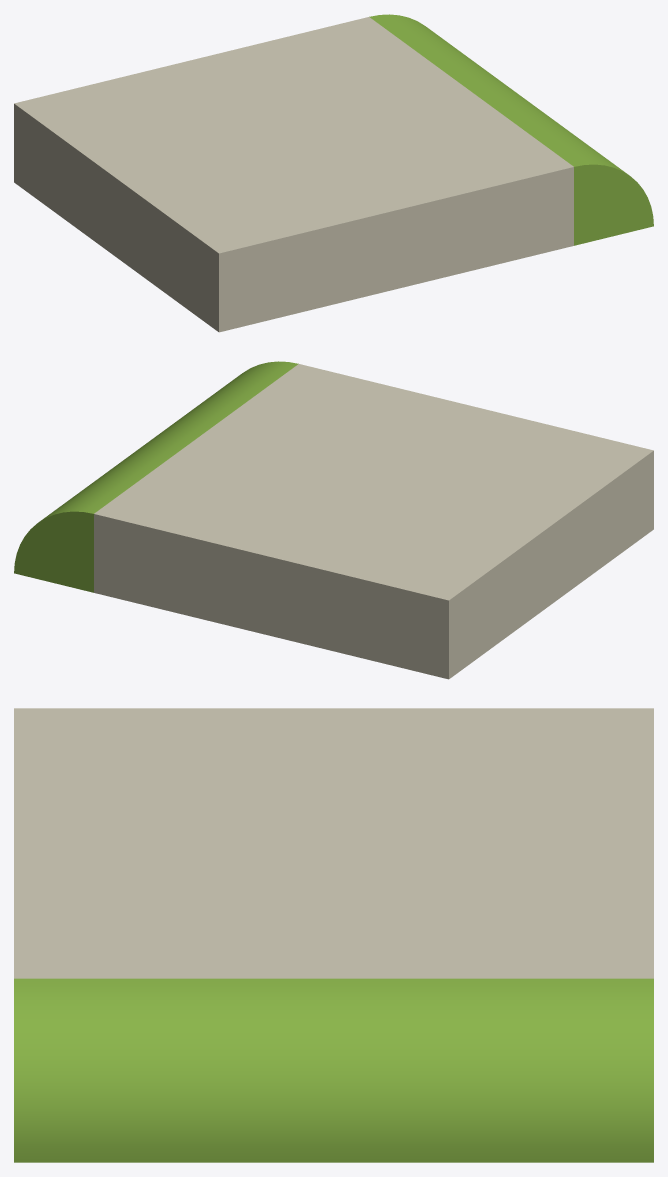
The model's file is building_011.dae.
3 views of the same model, one above another, from view 1: azimuth 30°, elevation 25°; view 2: azimuth 150°, elevation 25°; view 3: azimuth 270°, elevation 25° (orthographic). The views are drawn at different scales.
Visible parts, largest first — view 1: building_011; view 2: building_011; view 3: building_011.
Boxes of the visible parts, <box> form: building_011: <box>14,14,653,332</box>; building_011: <box>14,361,653,679</box>; building_011: <box>14,708,653,1162</box>.
Bounding box in the file's own units: 1.22 × 0.2125 × 1.
